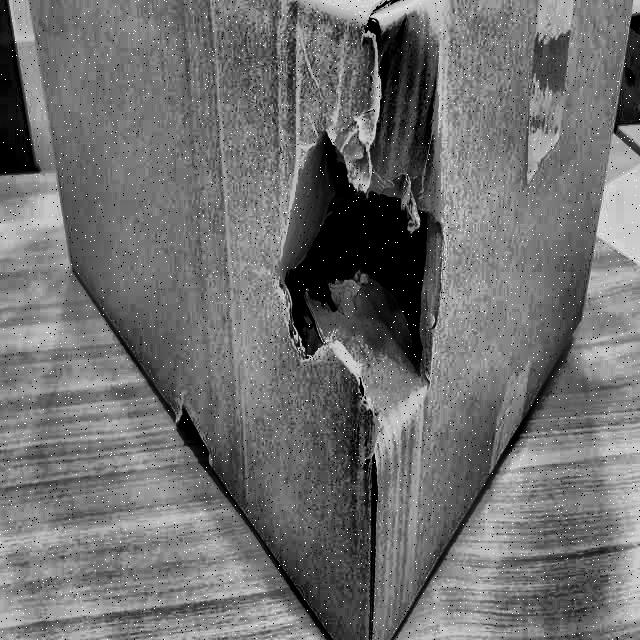box: (20, 0, 639, 639)
hole: (279, 144, 441, 408), (169, 404, 228, 470)
